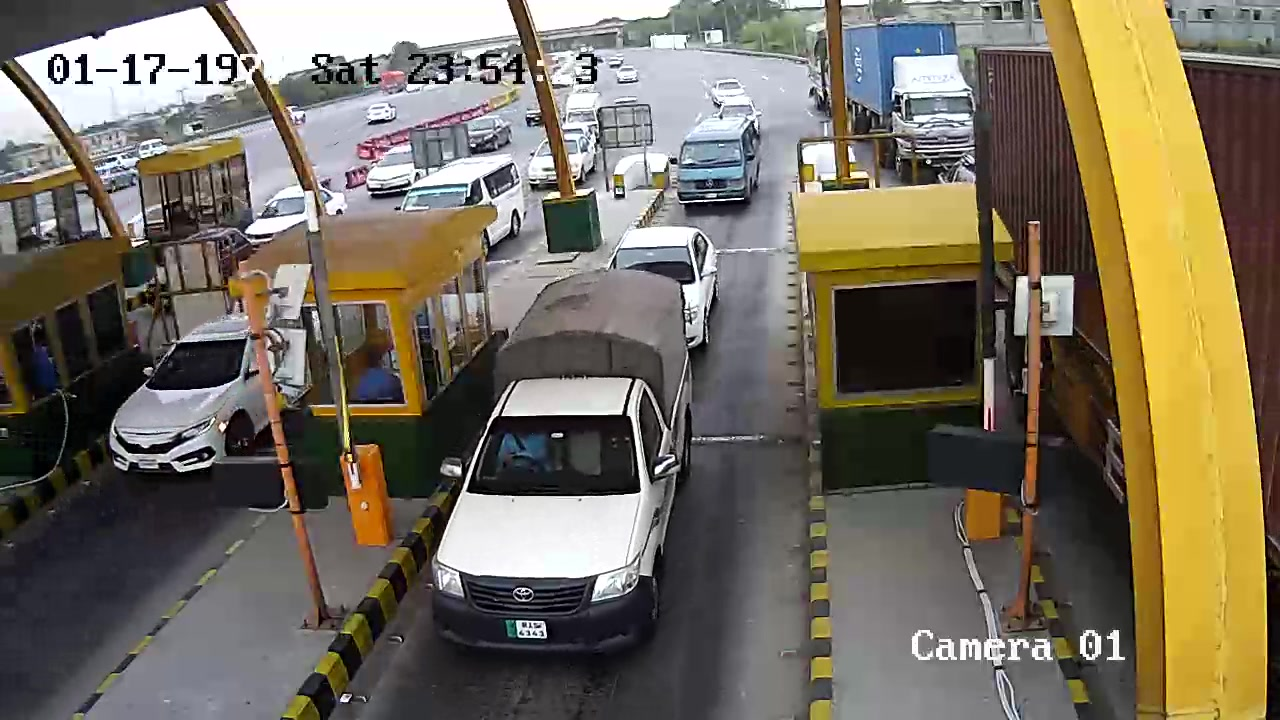F1: (423, 264, 707, 663)
